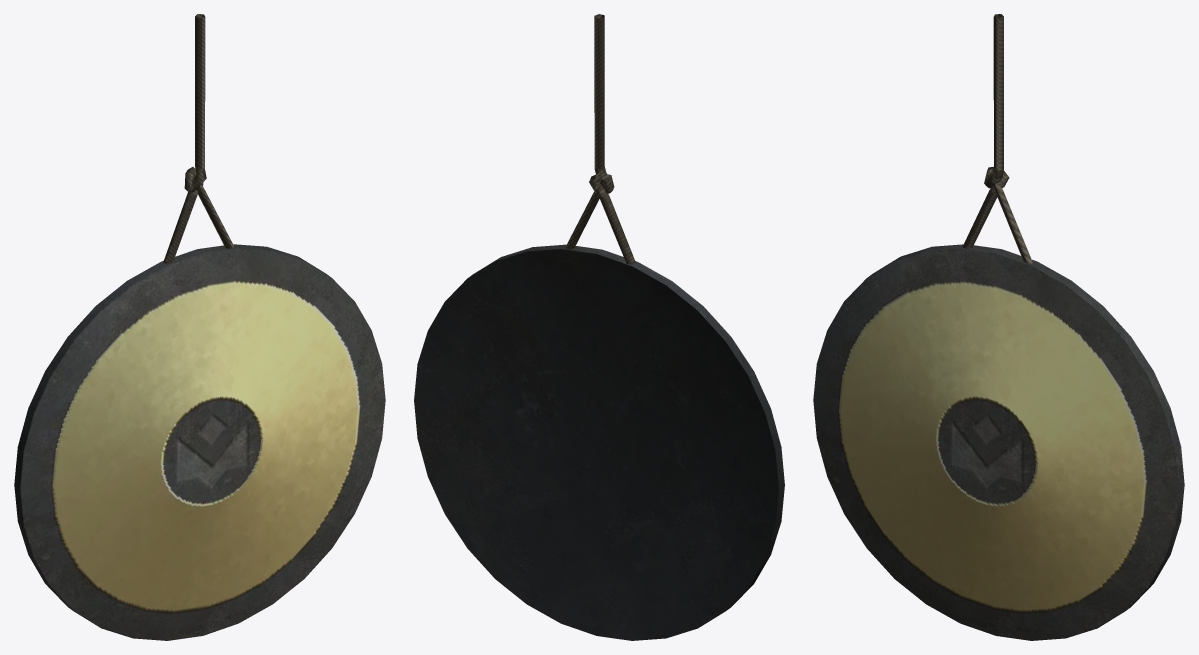
File: gong01-art.glb
3 renders of one model, left to right at view 1: azimuth 30°, elevation 25°; view 2: azimuth 150°, elevation 25°; view 3: azimuth 330°, elevation 25°, orthographic.
Parts seen in each view (by area): view 1: Gong01_Art; view 2: Gong01_Art; view 3: Gong01_Art.
Part boxes in pixels (x1,y1,x2,y2): Gong01_Art: (14, 14, 385, 640); Gong01_Art: (414, 14, 784, 640); Gong01_Art: (813, 14, 1184, 640).
Bounding box in the file's own units: 2 × 3.23 × 0.1661.
1 material, 1 textured.
